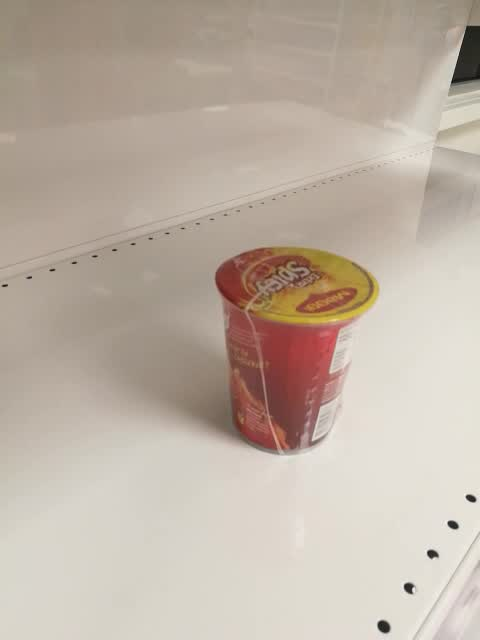maggi: (212, 244, 381, 456)
